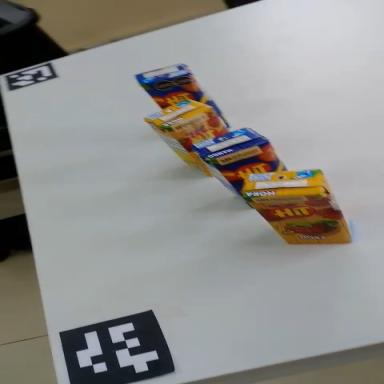HIT-MANGO: (134, 47, 227, 145), (191, 112, 286, 205)
HIT-MORA: (145, 80, 246, 184), (243, 170, 351, 246)
cara_F: (141, 57, 231, 155), (169, 102, 243, 181), (243, 193, 350, 245), (211, 130, 287, 200)
